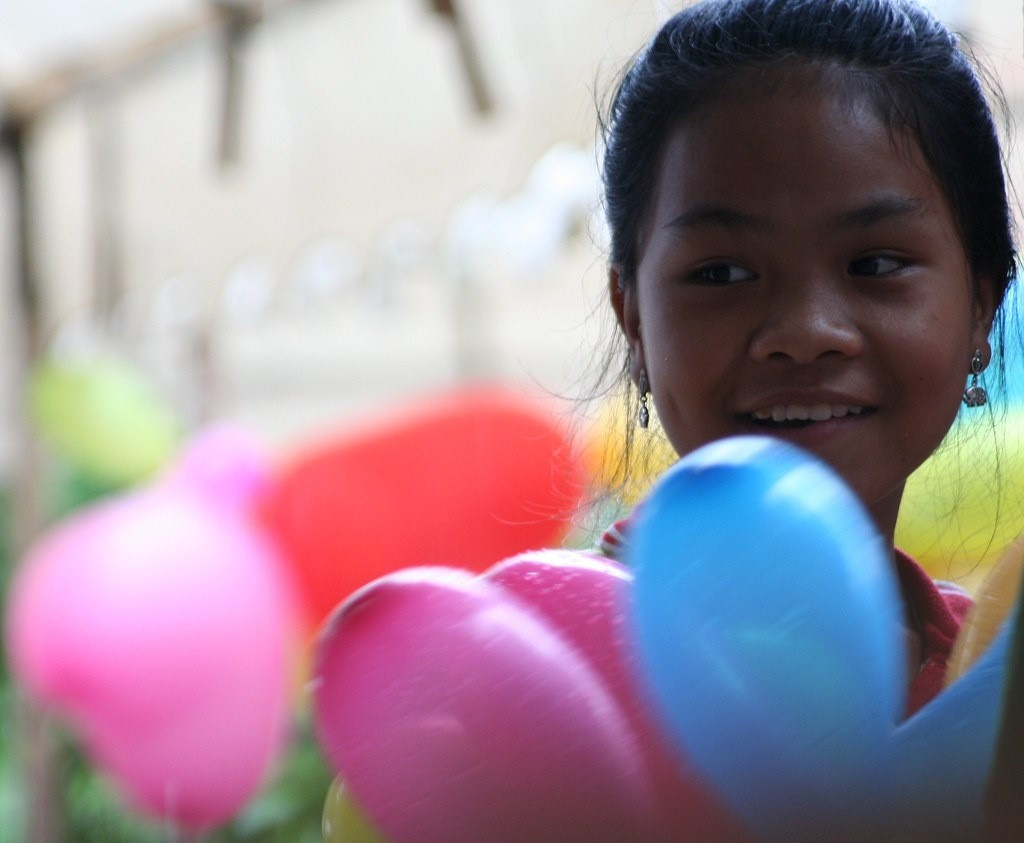face_no_mask: (611, 5, 1009, 516)
